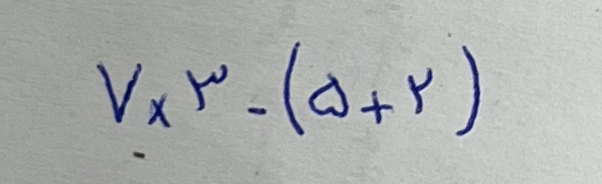character: (92, 59, 145, 123), (454, 44, 482, 136), (280, 41, 305, 138), (186, 62, 231, 113), (309, 72, 350, 120), (405, 66, 435, 115), (360, 87, 396, 125), (143, 90, 173, 129), (242, 103, 274, 118)
